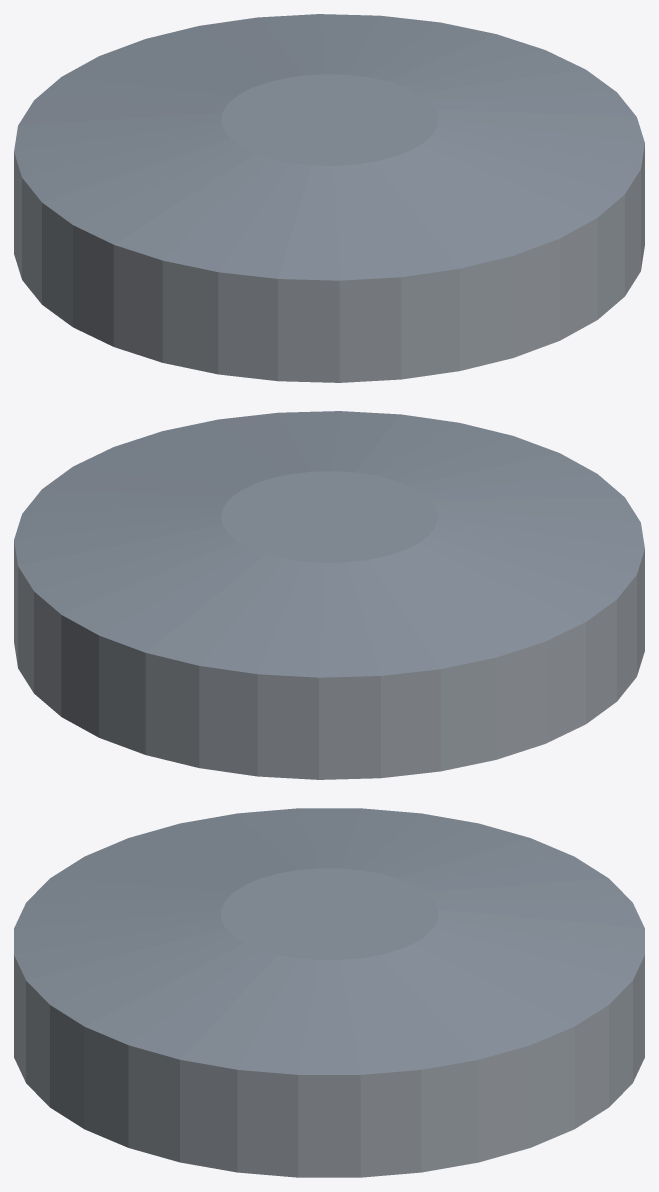
File: kspo-dome.glb
The picture shows the model from 3 angles, top to bottom: view 1: azimuth 30°, elevation 25°; view 2: azimuth 150°, elevation 25°; view 3: azimuth 270°, elevation 25°; orthographic projection.
Parts seen in each view (by area): view 1: roof_ID178076, bowl_ID178076; view 2: roof_ID178076, bowl_ID178076; view 3: roof_ID178076, bowl_ID178076.
Boxes of the visible parts, left/top/right/bottom form: roof_ID178076: left=14, top=14, right=644, bottom=280; bowl_ID178076: left=14, top=144, right=644, bottom=382; roof_ID178076: left=14, top=411, right=644, bottom=677; bowl_ID178076: left=14, top=541, right=644, bottom=779; roof_ID178076: left=14, top=808, right=644, bottom=1074; bowl_ID178076: left=14, top=955, right=644, bottom=1177.
Bounding box in the file's own units: 131 × 34.37 × 131.
